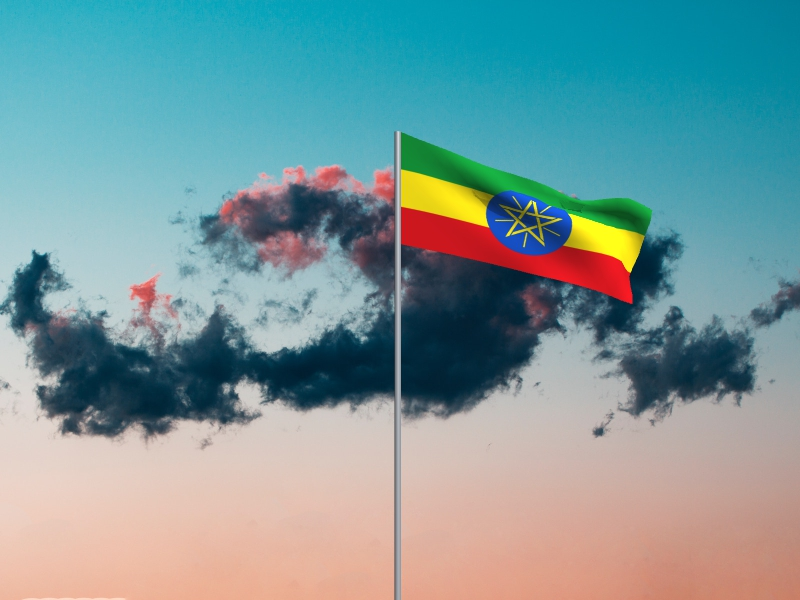et: (402, 133, 654, 306)
